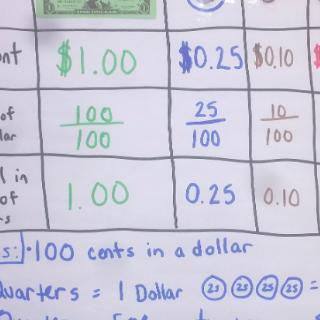.: (198, 199, 206, 206), (274, 199, 280, 208), (77, 204, 84, 211), (208, 64, 214, 71), (92, 68, 97, 75)
0: (110, 178, 130, 206), (119, 48, 137, 76), (91, 180, 108, 209), (101, 47, 117, 75), (193, 44, 208, 69), (184, 182, 201, 204), (58, 242, 76, 262), (43, 241, 58, 262), (287, 187, 301, 208), (99, 104, 115, 122), (85, 129, 98, 150), (98, 130, 112, 149), (283, 46, 295, 67), (262, 184, 274, 204), (264, 44, 274, 67), (210, 129, 222, 148), (85, 104, 97, 122), (200, 128, 211, 147), (276, 102, 287, 117)
1: (65, 180, 75, 211), (77, 44, 86, 74), (33, 237, 42, 261), (74, 126, 82, 152), (117, 279, 126, 301), (190, 127, 198, 150), (277, 44, 284, 68), (74, 102, 81, 123), (280, 187, 287, 207), (268, 101, 276, 118)
2: (213, 45, 231, 70), (207, 181, 221, 206), (193, 99, 206, 118)
5: (221, 183, 238, 205), (230, 44, 243, 71), (205, 99, 219, 118)
